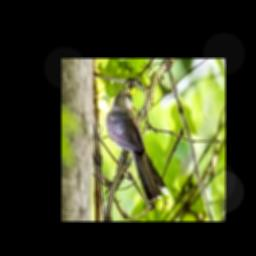Cuckoo: (105, 89, 170, 203)
